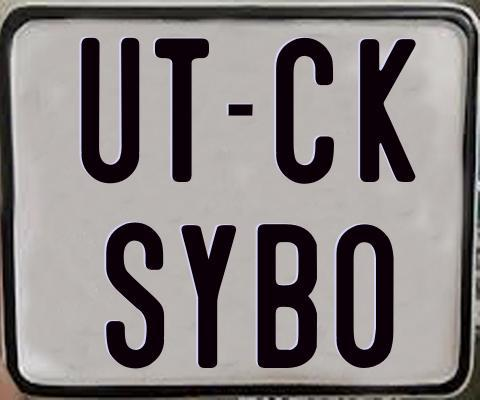0: (333, 224, 393, 371)
B: (256, 222, 315, 369)
C: (273, 37, 336, 188)
K: (360, 36, 421, 183)
S: (105, 222, 166, 374)
T: (153, 36, 211, 185)
U: (80, 38, 144, 188)
Y: (181, 223, 240, 369)
